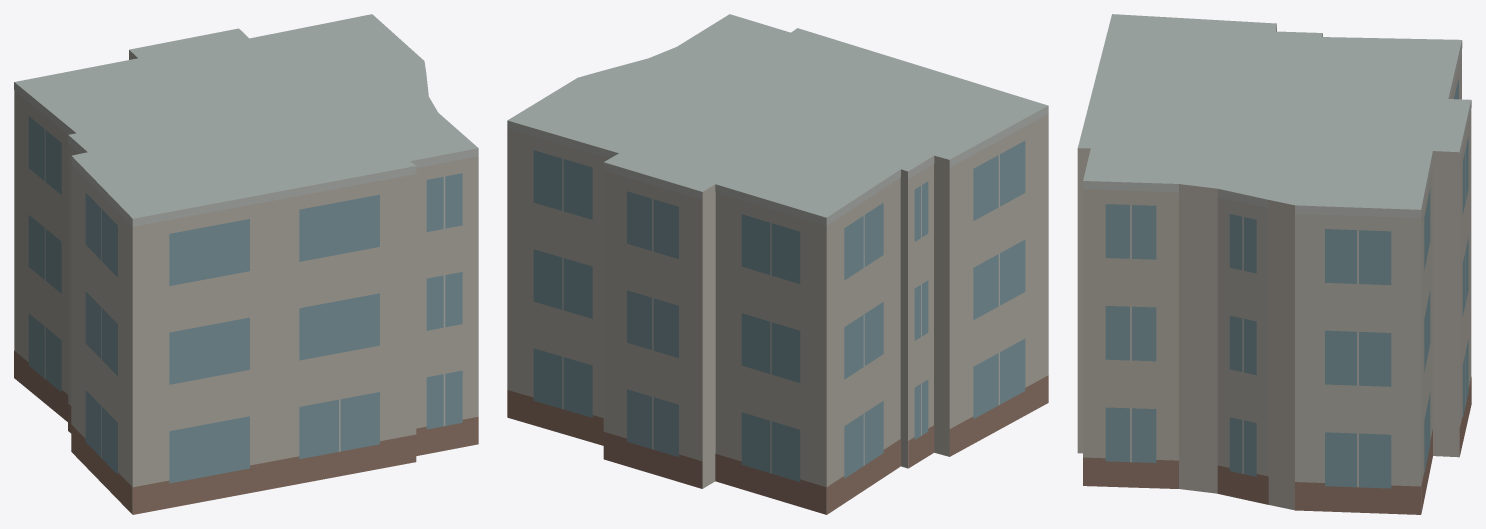
File: survey-upis-32755607.glb
3 views of the same model, side by side, from view 1: azimuth 30°, elevation 25°; view 2: azimuth 150°, elevation 25°; view 3: azimuth 270°, elevation 25° (orthographic). The views are drawn at different scales.
Visible parts, largest first — view 1: survey-upis-32755607.tmp; view 2: survey-upis-32755607.tmp; view 3: survey-upis-32755607.tmp.
Part boxes in pixels (<box>): survey-upis-32755607.tmp: <box>14,14,478,514</box>; survey-upis-32755607.tmp: <box>507,14,1048,514</box>; survey-upis-32755607.tmp: <box>1077,14,1471,514</box>.
Size of the model in its own units: 12.4 by 9 by 10.54.
